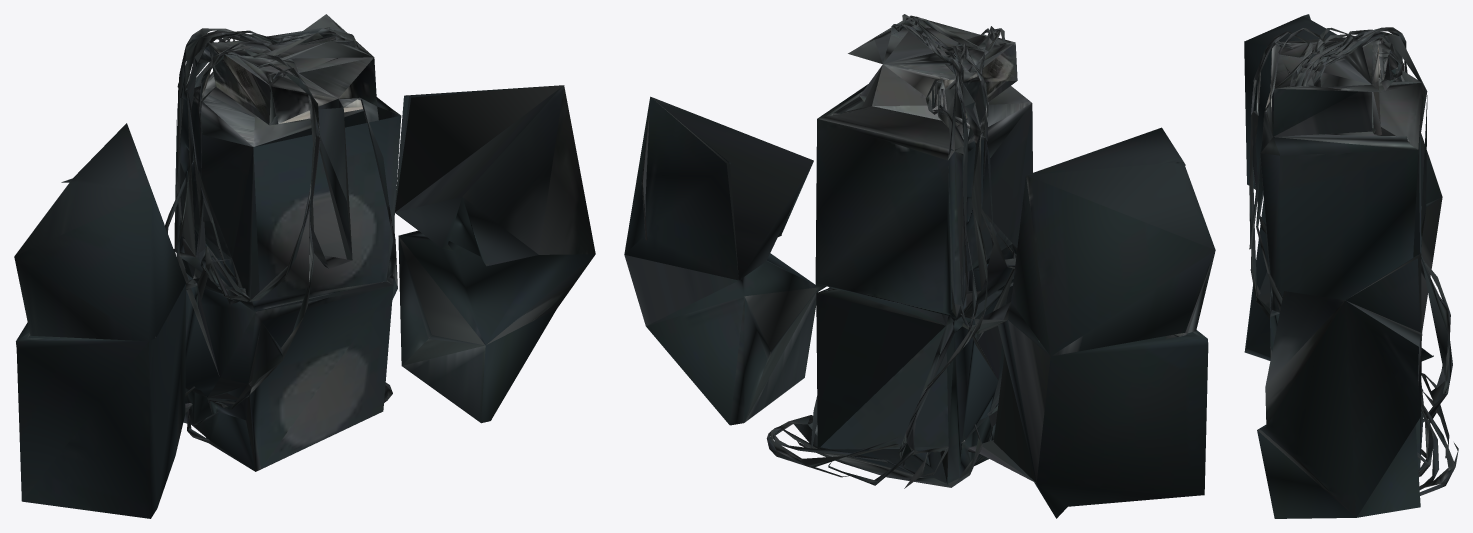
File: fv_speakers.glb
3 views of the same model, side by side, from view 1: azimuth 30°, elevation 25°; view 2: azimuth 150°, elevation 25°; view 3: azimuth 270°, elevation 25° (orthographic). The views are drawn at different scales.
Parts seen in each view (by area): view 1: fv_speakers; view 2: fv_speakers; view 3: fv_speakers.
Part boxes in pixels (x1=…): fv_speakers: x1=14, y1=14, x2=595, y2=518; fv_speakers: x1=624, y1=14, x2=1215, y2=518; fv_speakers: x1=1244, y1=14, x2=1458, y2=518.
Bounding box in the file's own units: 1.83 × 1.29 × 0.6334.
Materials: 1 (1 with a texture image).
